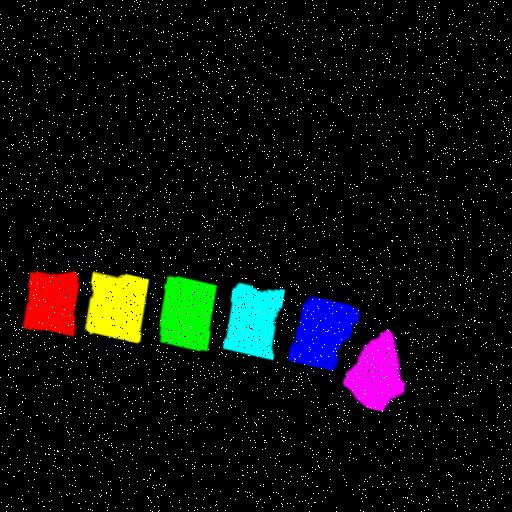L1: (24, 270, 76, 335)
L2: (86, 269, 149, 340)
L3: (159, 272, 217, 347)
L4: (223, 278, 285, 354)
L5: (289, 290, 360, 364)
S1: (343, 322, 405, 404)
